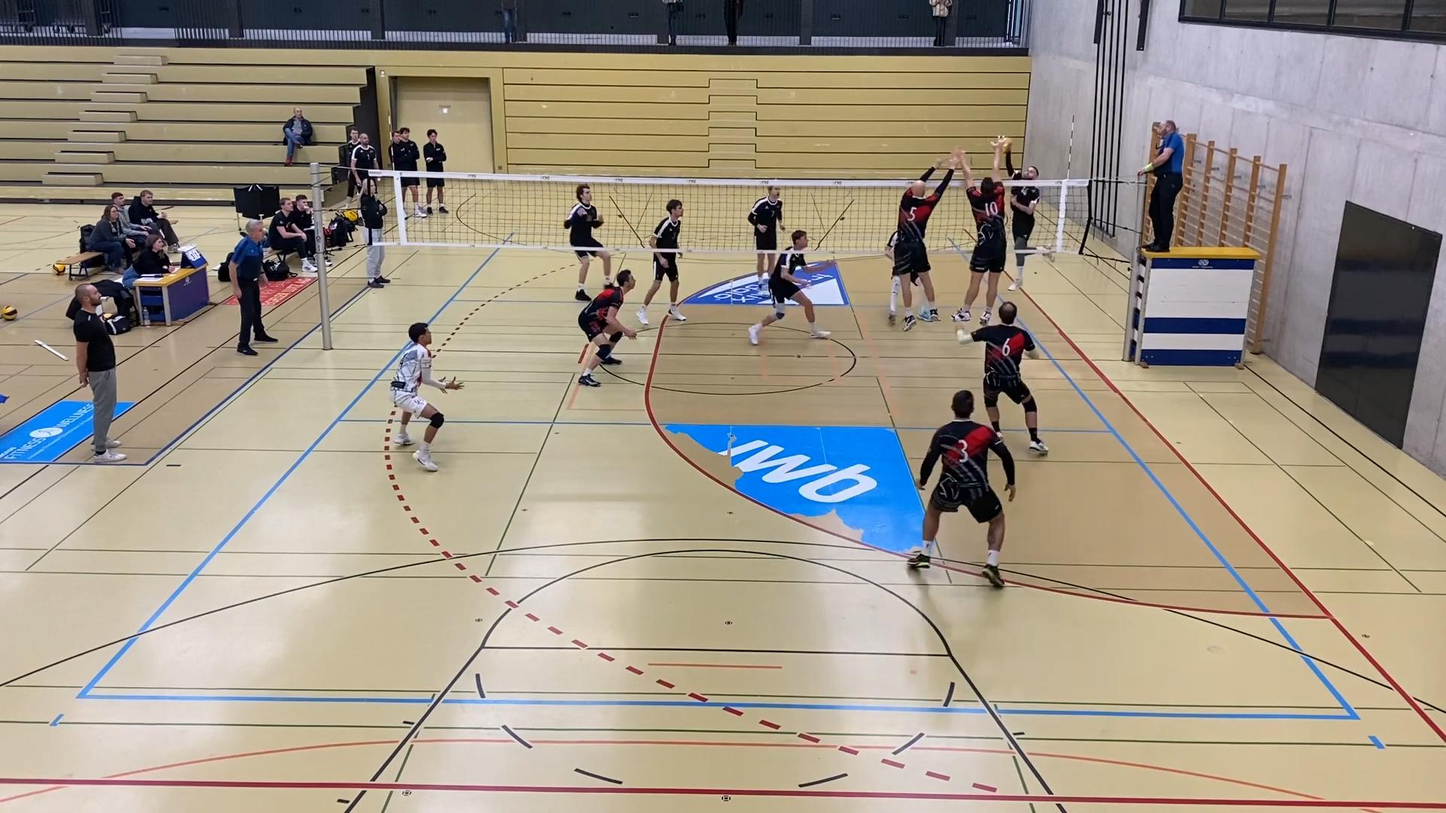Attack: (1002, 138, 1046, 297)
Block: (887, 147, 974, 331), (949, 143, 1011, 329)
Player: (908, 391, 1015, 587), (956, 301, 1048, 454), (391, 323, 463, 470), (748, 230, 831, 345), (578, 269, 636, 387), (637, 199, 686, 324), (564, 184, 612, 300), (747, 184, 782, 287), (888, 273, 901, 324)
ball: (1000, 132, 1014, 149)
